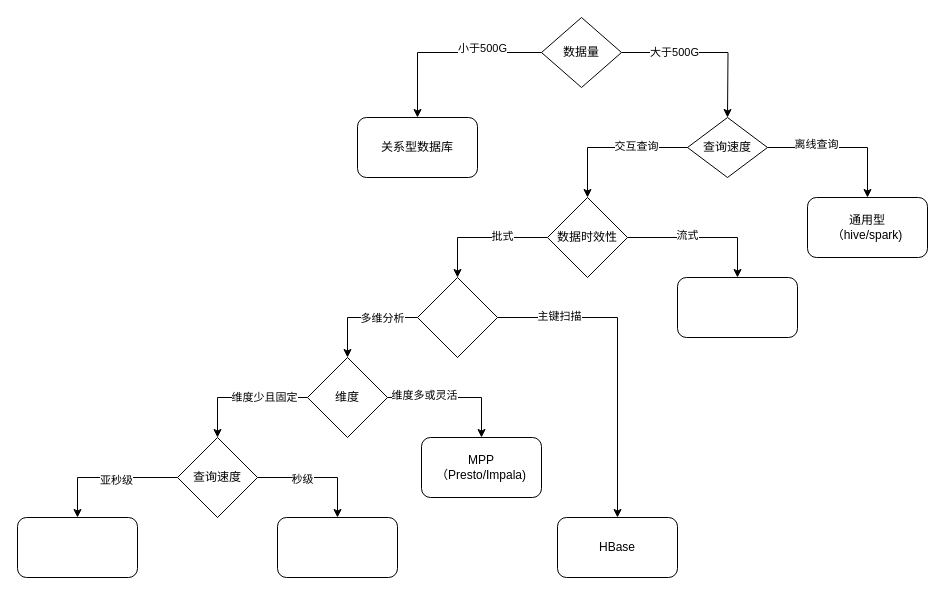
The diagram is 945 pixels wide and 595 high, and some of its shapes have lost their labels. The shapes that lost their labels are listed below. From the top down, each one's centre as x and y in pixels, then its label:
At point 457,317: "查询模式".
At point 737,307: "Flink/spark-stream/storm".
At point 77,547: "MOLAP （kylin/Druid)".
At point 337,547: "MPPDB (Clickhouse/Drois)".
